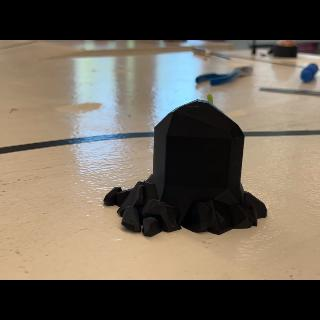teletubby: (207, 94, 213, 104)
